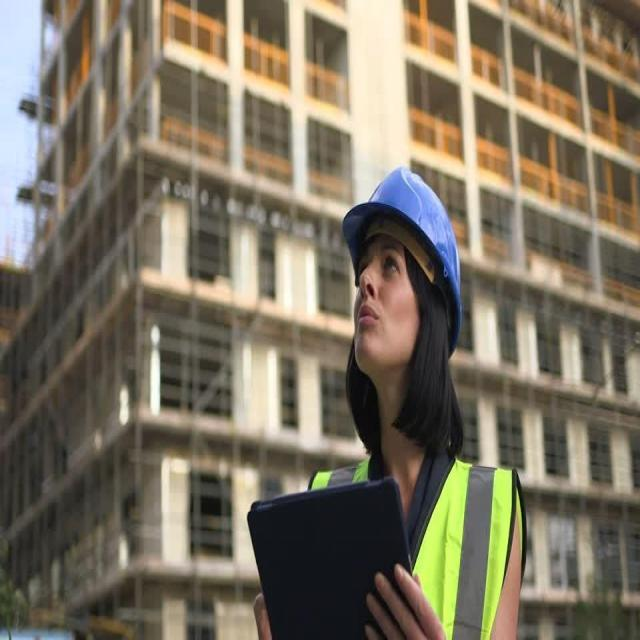vest: (300, 452, 530, 640)
